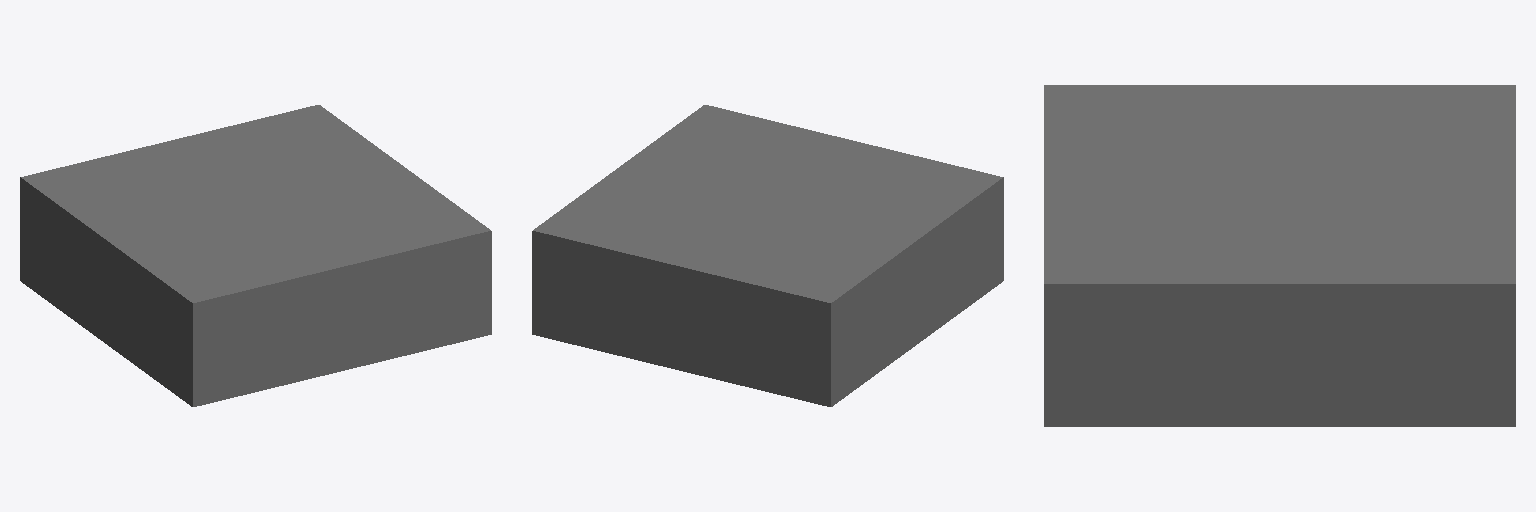
The robot description file, URDF, robot "panda_mobile_base":
<?xml version="1.0" ?>
<robot name="panda_mobile_base" xmlns:xacro="http://www.ros.org/wiki/xacro">

  <!-- World Link (fixed reference frame) -->
  <link name="world"/>

  <!-- Floating Base Joint: Allows the mobile base to move freely in the plane -->
  <joint name="floating_base" type="floating">
    <origin xyz="0 0 0" rpy="0 0 0"/>
    <parent link="world"/>
    <child link="mobile_base"/>
  </joint>

  <!-- Mobile Base -->
  <link name="mobile_base">
    <visual>
      <geometry>
        <box size="0.6 0.6 0.2"/> <!-- Base dimensions -->
      </geometry>
      <material name="base_grey">
        <color rgba="0.5 0.5 0.5 1.0"/>
      </material>
    </visual>
    <collision>
      <geometry>
        <box size="0.6 0.6 0.2"/>
      </geometry>
    </collision>
    <inertial>
      <origin rpy="0 0 0" xyz="0 0 0"/>
      <mass value="30.0"/>
      <inertia ixx="1.0" ixy="0.0" ixz="0.0" iyy="1.0" iyz="0.0" izz="1.0"/>
    </inertial>
  </link>

  <!-- Fixed Joint: Arm Base to Mobile Base -->
  <joint name="arm_mount_joint" type="fixed">
    <origin xyz="0 0 0.1" rpy="0 0 0"/> <!-- Mount arm on top of mobile base -->
    <parent link="mobile_base"/>
    <child link="iiwa_link_0"/>
  </joint>

  <!-- IIWA Arm Links -->
  <link name="iiwa_link_0">
    <visual>
      <geometry>
        <mesh filename="package://iiwa_description/meshes/iiwa7/visual/link_0.stl"/>
      </geometry>
      <material name="panda_gray"/>
    </visual>
    <collision>
      <geometry>
        <mesh filename="package://iiwa_description/meshes/iiwa7/collision/link_0.stl"/>
      </geometry>
    </collision>
    <inertial>
      <origin xyz="0 0 0" rpy="0 0 0"/>
      <mass value="5.0"/>
      <inertia ixx="0.05" ixy="0" ixz="0" iyy="0.05" iyz="0" izz="0.05"/>
    </inertial>
  </link>

  <link name="iiwa_link_1">
    <visual>
      <geometry>
        <mesh filename="package://iiwa_description/meshes/iiwa7/visual/link_1.stl"/>
      </geometry>
      <material name="iiwa_orange">
        <color rgba="1.0 0.423529 0.0392157 1.0"/>
      </material>
    </visual>
    <collision>
      <geometry>
        <mesh filename="package://iiwa_description/meshes/iiwa7/collision/link_1.stl"/>
      </geometry>
    </collision>
    <inertial>
      <origin xyz="0 -0.03 0.12" rpy="0 0 0"/>
      <mass value="3.4525"/>
      <inertia ixx="0.0218946" ixy="0" ixz="0" iyy="0.02183" iyz="0" izz="0.00663837"/>
    </inertial>
  </link>

  <link name="iiwa_link_2">
    <visual>
      <geometry>
        <mesh filename="package://iiwa_description/meshes/iiwa7/visual/link_2.stl"/>
      </geometry>
      <material name="iiwa_orange"/>
    </visual>
    <collision>
      <geometry>
        <mesh filename="package://iiwa_description/meshes/iiwa7/collision/link_2.stl"/>
      </geometry>
    </collision>
    <inertial>
      <origin xyz="0.0003 0.059 0.042" rpy="0 0 0"/>
      <mass value="3.4821"/>
      <inertia ixx="0.02179" ixy="0" ixz="0" iyy="0.0217049" iyz="0" izz="0.00684512"/>
    </inertial>
  </link>

  <link name="iiwa_link_3">
    <visual>
      <geometry>
        <mesh filename="package://iiwa_description/meshes/iiwa7/visual/link_3.stl"/>
      </geometry>
      <material name="iiwa_orange"/>
    </visual>
    <collision>
      <geometry>
        <mesh filename="package://iiwa_description/meshes/iiwa7/collision/link_3.stl"/>
      </geometry>
    </collision>
    <inertial>
      <origin xyz="0 0.03 0.13" rpy="0 0 0"/>
      <mass value="4.05623"/>
      <inertia ixx="0.0321488" ixy="0" ixz="0" iyy="0.03204" iyz="0" izz="0.00799117"/>
    </inertial>
  </link>

  <link name="iiwa_link_4">
    <visual>
      <geometry>
        <mesh filename="package://iiwa_description/meshes/iiwa7/visual/link_4.stl"/>
      </geometry>
      <material name="iiwa_orange"/>
    </visual>
    <collision>
      <geometry>
        <mesh filename="package://iiwa_description/meshes/iiwa7/collision/link_4.stl"/>
      </geometry>
    </collision>
    <inertial>
      <origin xyz="0 0.067 0.034" rpy="0 0 0"/>
      <mass value="3.4822"/>
      <inertia ixx="0.02178" ixy="0" ixz="0" iyy="0.0216947" iyz="0" izz="0.00684029"/>
    </inertial>
  </link>

  <link name="iiwa_link_5">
    <visual>
      <geometry>
        <mesh filename="package://iiwa_description/meshes/iiwa7/visual/link_5.stl"/>
      </geometry>
      <material name="iiwa_orange"/>
    </visual>
    <collision>
      <geometry>
        <mesh filename="package://iiwa_description/meshes/iiwa7/collision/link_5.stl"/>
      </geometry>
    </collision>
    <inertial>
      <origin xyz="0.0001 0.021 0.076" rpy="0 0 0"/>
      <mass value="2.1633"/>
      <inertia ixx="0.0131987" ixy="0" ixz="0" iyy="0.01287" iyz="0" izz="0.0036293"/>
    </inertial>
  </link>

  <link name="iiwa_link_6">
    <visual>
      <geometry>
        <mesh filename="package://iiwa_description/meshes/iiwa7/visual/link_6.stl"/>
      </geometry>
      <material name="iiwa_orange"/>
    </visual>
    <collision>
      <geometry>
        <mesh filename="package://iiwa_description/meshes/iiwa7/collision/link_6.stl"/>
      </geometry>
    </collision>
    <inertial>
      <origin xyz="0 0.0006 0.0004" rpy="0 0 0"/>
      <mass value="2.3466"/>
      <inertia ixx="0.006509" ixy="0" ixz="0" iyy="0.00631585" iyz="0" izz="0.00447015"/>
    </inertial>
  </link>

  <link name="iiwa_link_7">
    <visual>
      <geometry>
        <mesh filename="package://iiwa_description/meshes/iiwa7/visual/link_7.stl"/>
      </geometry>
      <material name="panda_gray"/>
    </visual>
    <collision>
      <geometry>
        <mesh filename="package://iiwa_description/meshes/iiwa7/collision/link_7.stl"/>
      </geometry>
    </collision>
    <inertial>
      <origin xyz="0 0 0.02" rpy="0 0 0"/>
      <mass value="3.129"/>
      <inertia ixx="0.0152362" ixy="0" ixz="0" iyy="0.0140538" iyz="0" izz="0.002872"/>
    </inertial>
  </link>

  <!-- IIWA Arm Joints -->
  <joint name="iiwa_joint_1" type="revolute">
    <origin xyz="0 0 0.15" rpy="0 0 0"/>
    <parent link="iiwa_link_0"/>
    <child link="iiwa_link_1"/>
    <axis xyz="0 0 1"/>
    <limit lower="-2.96706" upper="2.96706" effort="300" velocity="1.4835"/>
    <dynamics damping="0.5"/>
  </joint>

  <joint name="iiwa_joint_2" type="revolute">
    <origin xyz="0 0 0.19" rpy="1.5708 0 3.14159"/>
    <parent link="iiwa_link_1"/>
    <child link="iiwa_link_2"/>
    <axis xyz="0 0 1"/>
    <limit lower="-2.0944" upper="2.0944" effort="300" velocity="1.4835"/>
    <dynamics damping="0.5"/>
  </joint>

  <joint name="iiwa_joint_3" type="revolute">
    <origin xyz="0 0.21 0" rpy="1.5708 0 3.14159"/>
    <parent link="iiwa_link_2"/>
    <child link="iiwa_link_3"/>
    <axis xyz="0 0 1"/>
    <limit lower="-2.96706" upper="2.96706" effort="300" velocity="1.7453"/>
    <dynamics damping="0.5"/>
  </joint>

  <joint name="iiwa_joint_4" type="revolute">
    <origin xyz="0 0 0.19" rpy="1.5708 0 0"/>
    <parent link="iiwa_link_3"/>
    <child link="iiwa_link_4"/>
    <axis xyz="0 0 1"/>
    <limit lower="-2.0944" upper="2.0944" effort="300" velocity="1.3090"/>
    <dynamics damping="0.5"/>
  </joint>

  <joint name="iiwa_joint_5" type="revolute">
    <origin xyz="0 0.21 0" rpy="-1.5708 3.14159 0"/>
    <parent link="iiwa_link_4"/>
    <child link="iiwa_link_5"/>
    <axis xyz="0 0 1"/>
    <limit lower="-2.96706" upper="2.96706" effort="300" velocity="2.2689"/>
    <dynamics damping="0.5"/>
  </joint>

  <joint name="iiwa_joint_6" type="revolute">
    <origin xyz="0 0.0607 0.19" rpy="1.5708 0 0"/>
    <parent link="iiwa_link_5"/>
    <child link="iiwa_link_6"/>
    <axis xyz="0 0 1"/>
    <limit lower="-2.0944" upper="2.0944" effort="300" velocity="2.3562"/>
    <dynamics damping="0.5"/>
  </joint>

  <joint name="iiwa_joint_7" type="revolute">
    <origin xyz="0 0.081 0.0607" rpy="-1.5708 3.14159 0"/>
    <parent link="iiwa_link_6"/>
    <child link="iiwa_link_7"/>
    <axis xyz="0 0 1"/>
    <limit lower="-3.05433" upper="3.05433" effort="300" velocity="2.3562"/>
    <dynamics damping="0.5"/>
  </joint>

  <!-- Materials -->
  <material name="base_grey">
    <color rgba="0.5 0.5 0.5 1.0"/>
  </material>
  <material name="panda_white">
    <color rgba="1. 1. 1. 1."/>
  </material>
  <material name="panda_gray">
    <color rgba=".8 .8 .8 1."/>
  </material>
  <material name="iiwa_orange">
    <color rgba="1.0 0.423529 0.0392157 1.0"/>
  </material>
</robot>

--- Render facts (derived) ---
3 views of the same robot in one strip: view 1: azimuth 30°, elevation 25°; view 2: azimuth 150°, elevation 25°; view 3: azimuth 270°, elevation 25° (orthographic).
Model panda_mobile_base with 10 links and 9 joints (7 revolute, 1 fixed, 1 floating), rooted at world, posed all joints at 0.
Visible links, largest first — view 1: mobile_base; view 2: mobile_base; view 3: mobile_base.
Boxes of the visible links, x1,y1,x2,y2 form: mobile_base: (20, 105, 491, 406); mobile_base: (532, 105, 1003, 406); mobile_base: (1044, 85, 1515, 426).
Bounding box of the posed robot: 0.6 × 0.6 × 0.2 m (x, y, z).
Meshes: 8 distinct files referenced, 0 mesh visuals loaded (none loaded); not drawn: 8 (reference not matched to a file when rendering).